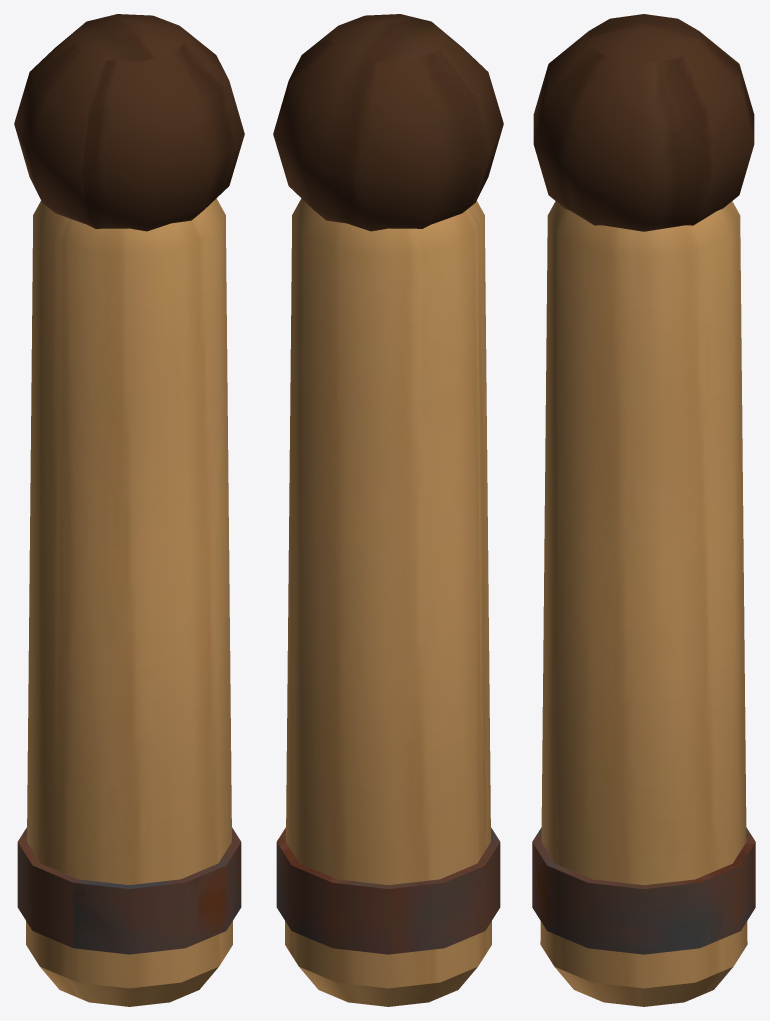
The model's file is Doll_Limb_Lower.glb.
3 views of the same model, side by side, from view 1: azimuth 30°, elevation 25°; view 2: azimuth 150°, elevation 25°; view 3: azimuth 270°, elevation 25° (orthographic).
Parts seen in each view (by area): view 1: Doll_Limb_Lower; view 2: Doll_Limb_Lower; view 3: Doll_Limb_Lower.
Boxes of the visible parts, x1=… form: Doll_Limb_Lower: x1=14, y1=14, x2=244, y2=1006; Doll_Limb_Lower: x1=273, y1=14, x2=503, y2=1006; Doll_Limb_Lower: x1=532, y1=14, x2=755, y2=1006.
Size of the model in its own units: 0.0963 by 0.4346 by 0.0929.
Materials: 4 (3 with a texture image).
